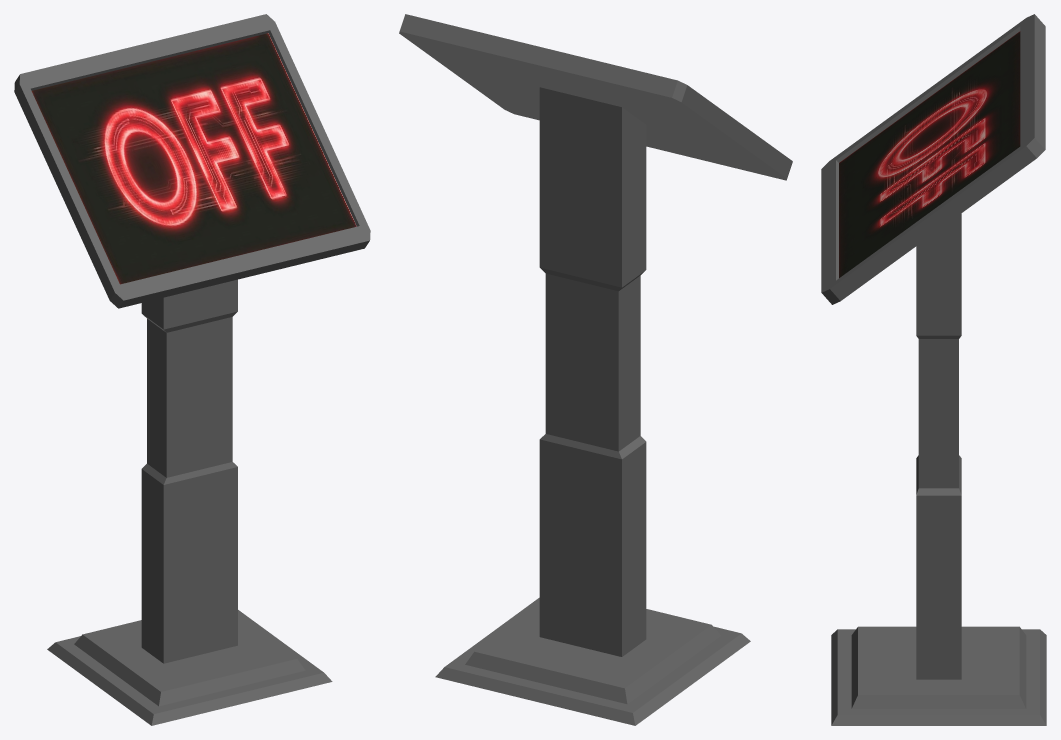
File: Interruptor (1).fbx
3 views of the same model, side by side, from view 1: azimuth 30°, elevation 25°; view 2: azimuth 150°, elevation 25°; view 3: azimuth 270°, elevation 25° (orthographic). The views are drawn at different scales.
Visible parts, largest first — view 1: Interruptor.001; view 2: Interruptor.001; view 3: Interruptor.001.
Boxes of the visible parts, bbox=[...] form: Interruptor.001: bbox=[14, 14, 370, 725]; Interruptor.001: bbox=[399, 14, 792, 725]; Interruptor.001: bbox=[821, 14, 1046, 725].
Size of the model in its own units: 0.6844 by 1.5 by 0.5072.
2 materials, 1 textured.
